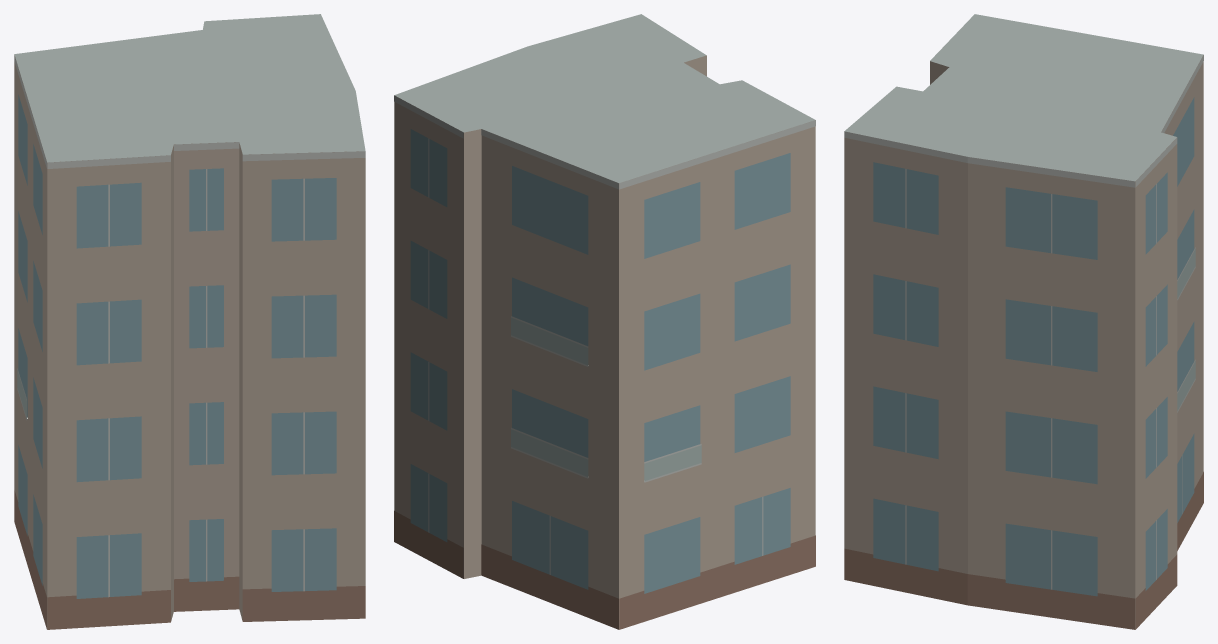
The model's file is survey-upis-32993789.glb.
3 views of the same model, side by side, from view 1: azimuth 30°, elevation 25°; view 2: azimuth 150°, elevation 25°; view 3: azimuth 270°, elevation 25° (orthographic). The views are drawn at different scales.
Parts seen in each view (by area): view 1: survey-upis-32993789.tmp; view 2: survey-upis-32993789.tmp; view 3: survey-upis-32993789.tmp.
Boxes of the visible parts, <box> form: survey-upis-32993789.tmp: <box>14,14,365,629</box>; survey-upis-32993789.tmp: <box>394,14,815,629</box>; survey-upis-32993789.tmp: <box>844,14,1203,629</box>.
Bounding box in the file's own units: 13.77 × 17.2 × 12.51.
